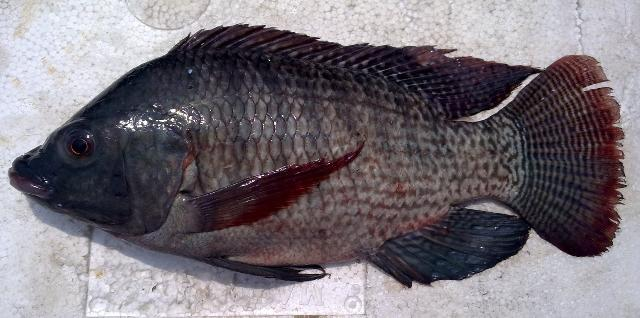Mulut: (0, 130, 70, 226)
Sirip Anal: (364, 199, 536, 293)
Sirip Dada: (158, 131, 380, 235)
Sirip Ekor: (495, 36, 635, 268)
Sirip Perut: (190, 245, 336, 301)
Sirip Punggung: (162, 18, 548, 128)
